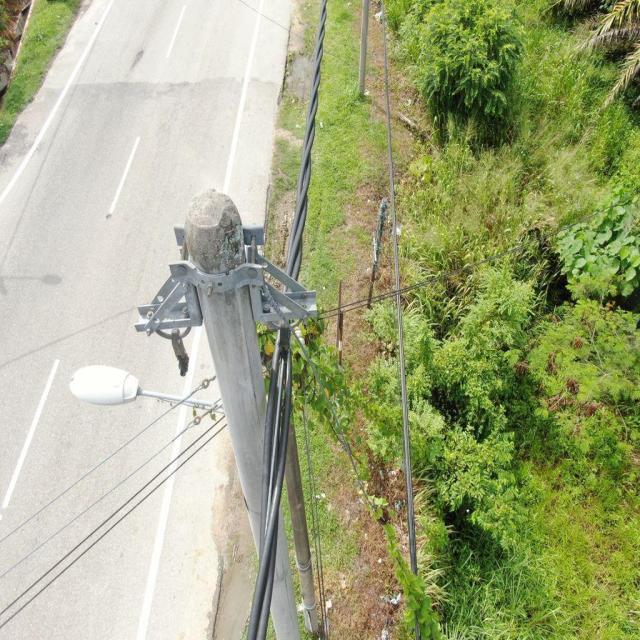critical vegetation: (253, 292, 504, 636)
